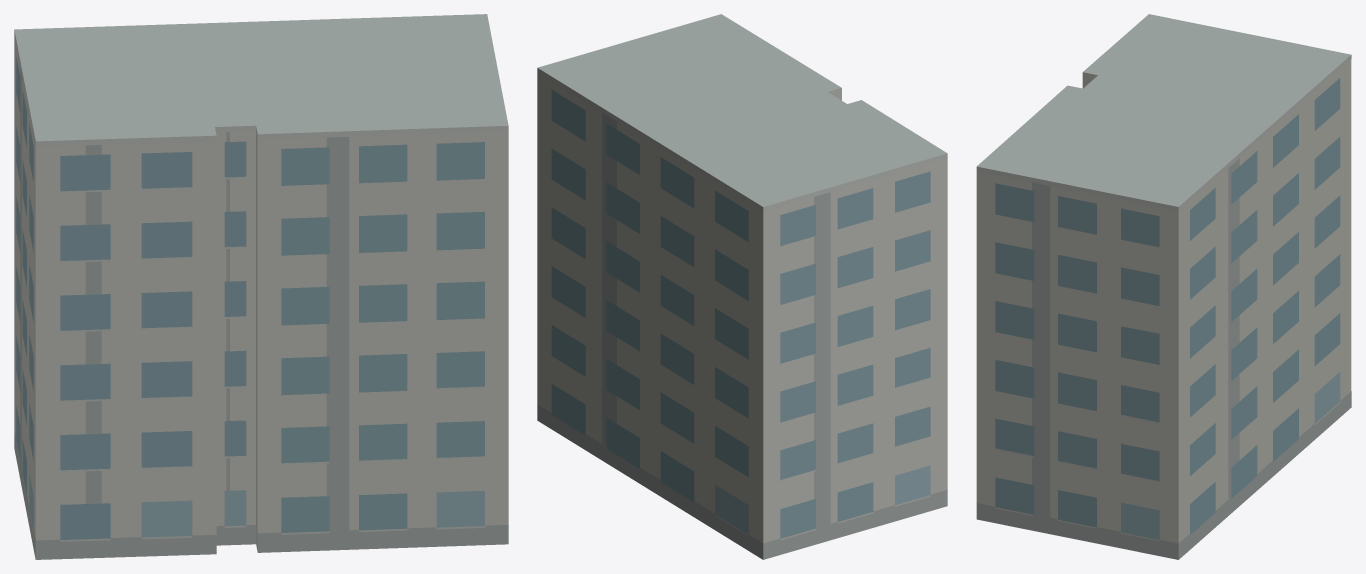
Rendered from survey-upis-32552714.glb.
The picture shows the model from 3 angles, left to right: view 1: azimuth 30°, elevation 25°; view 2: azimuth 150°, elevation 25°; view 3: azimuth 270°, elevation 25°; orthographic projection. The views are drawn at different scales.
Parts seen in each view (by area): view 1: survey-upis-32552714.tmp; view 2: survey-upis-32552714.tmp; view 3: survey-upis-32552714.tmp.
Part boxes in pixels (x1,y1,x2,y2): survey-upis-32552714.tmp: (14,14,508,559); survey-upis-32552714.tmp: (537,14,947,559); survey-upis-32552714.tmp: (976,14,1351,559).
Size of the model in its own units: 21.24 by 18.1 by 17.43.
